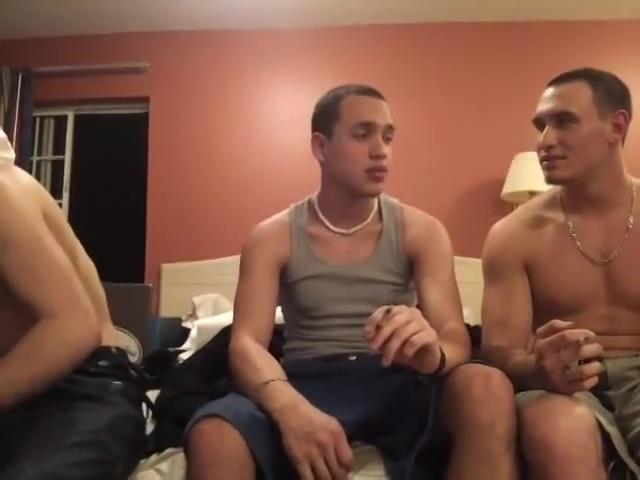cigarette: (375, 305, 395, 336), (572, 334, 594, 348)
